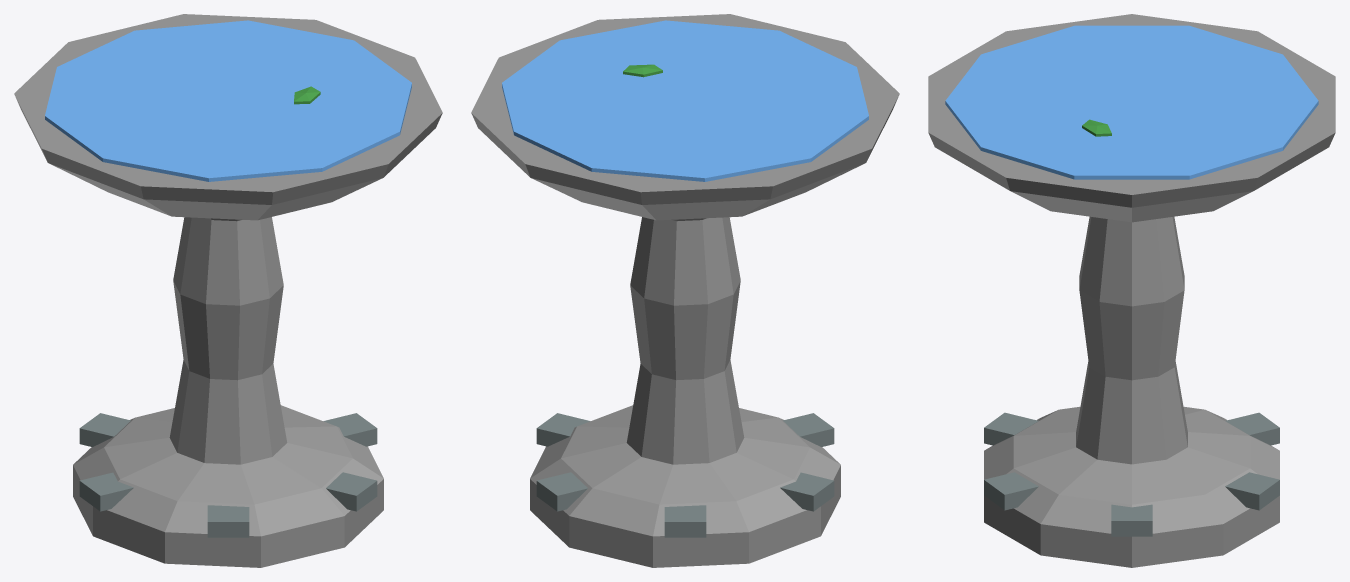
File: birdbath.glb
3 renders of one model, left to right at view 1: azimuth 30°, elevation 25°; view 2: azimuth 150°, elevation 25°; view 3: azimuth 270°, elevation 25°, orthographic.
Parts seen in each view (by area): view 1: birdbath-m; view 2: birdbath-m; view 3: birdbath-m.
Boxes of the visible parts, x1,y1,x2,y2 form: birdbath-m: (14, 14, 442, 567); birdbath-m: (471, 14, 899, 567); birdbath-m: (928, 14, 1335, 567).
Bounding box in the file's own units: 1.24 × 1.3 × 1.18.
